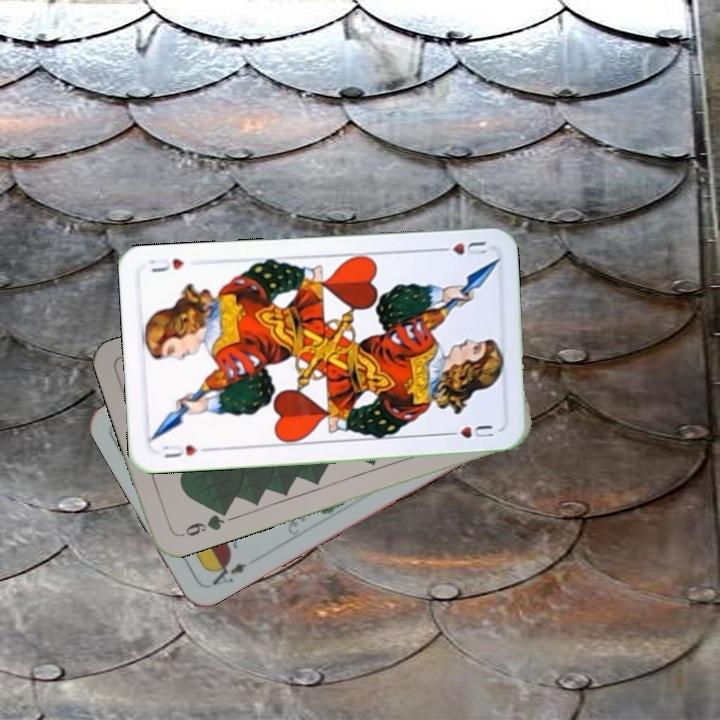EA: (205, 556, 250, 588)
G9: (175, 506, 230, 540)
HU: (432, 237, 490, 260), (159, 440, 212, 461)
